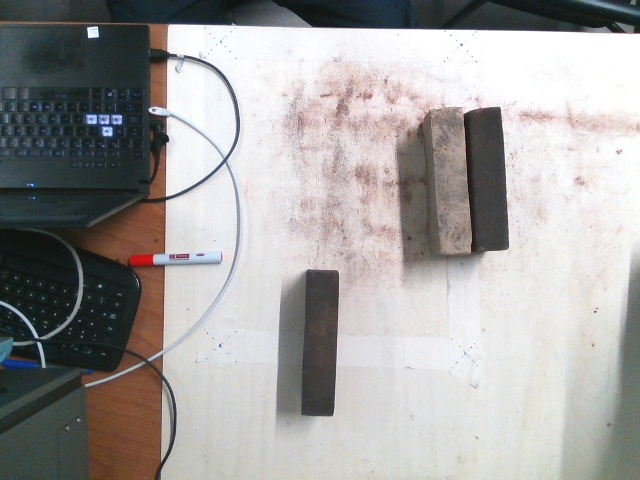brick-side: (471, 110, 511, 253), (432, 108, 471, 251), (304, 270, 337, 415)
